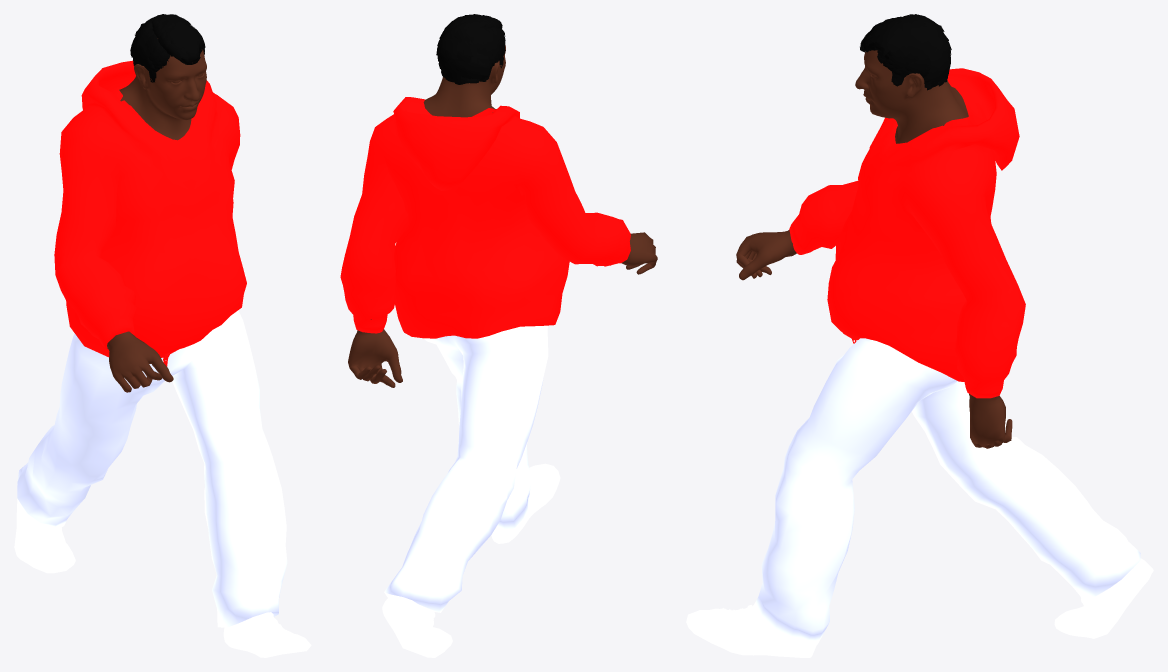
The model's file is Man_04_Walking-transformed.glb.
The picture shows the model from 3 angles, left to right: view 1: azimuth 30°, elevation 25°; view 2: azimuth 150°, elevation 25°; view 3: azimuth 270°, elevation 25°; orthographic projection. The views are drawn at different scales.
Visible parts, largest first — view 1: Tops.002, Bottoms.002, Body.002, Shoes.002, Hair.002; view 2: Tops.002, Bottoms.002, Body.002, Shoes.002, Hair.002; view 3: Tops.002, Bottoms.002, Body.002, Shoes.002, Hair.002.
Boxes of the visible parts, box(x1,y1,x2,y2) form: Tops.002: box(54, 60, 246, 366); Bottoms.002: box(17, 310, 287, 627); Body.002: box(107, 38, 206, 392); Shoes.002: box(14, 498, 311, 657); Hair.002: box(130, 14, 205, 82); Tops.002: box(340, 97, 630, 338); Bottoms.002: box(384, 325, 548, 612); Body.002: box(348, 45, 657, 387); Shoes.002: box(382, 463, 560, 657); Hair.002: box(436, 14, 505, 84); Tops.002: box(789, 68, 1025, 398); Bottoms.002: box(753, 338, 1140, 644); Body.002: box(736, 50, 1012, 448); Shoes.002: box(686, 558, 1153, 657); Hair.002: box(860, 14, 951, 90).
Bounding box in the file's own units: 0.6704 × 1.7 × 1.14.
